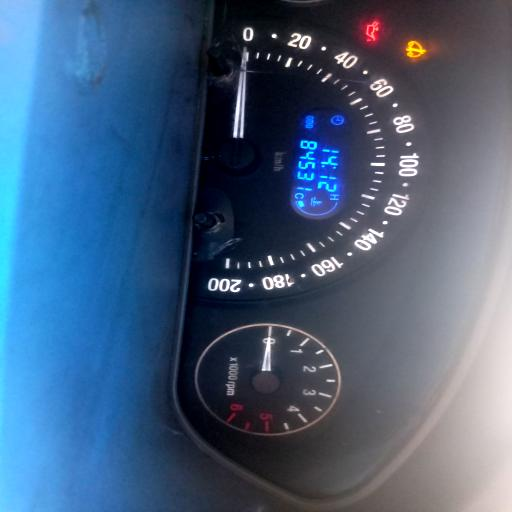oil: (364, 20, 380, 43)
